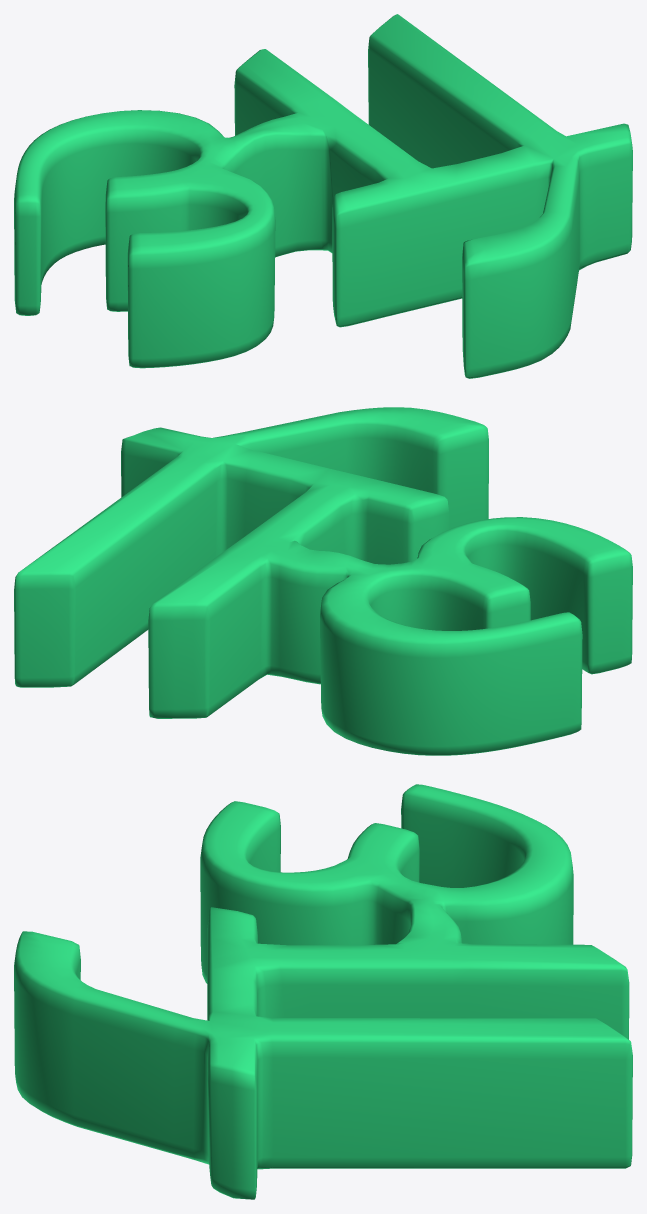
3 views of the same model, one above another, from view 1: azimuth 30°, elevation 25°; view 2: azimuth 150°, elevation 25°; view 3: azimuth 270°, elevation 25° (orthographic). The views are drawn at different scales.
Parts seen in each view (by area): view 1: 3D_Alphabets_Hindi_Language_02.009; view 2: 3D_Alphabets_Hindi_Language_02.009; view 3: 3D_Alphabets_Hindi_Language_02.009.
Part boxes in pixels (box(x1,y1,x2,y2)): 3D_Alphabets_Hindi_Language_02.009: box(14, 14, 632, 378); 3D_Alphabets_Hindi_Language_02.009: box(14, 407, 632, 755); 3D_Alphabets_Hindi_Language_02.009: box(14, 784, 632, 1199).
Bounding box in the file's own units: 1.01 × 0.226 × 0.9.
